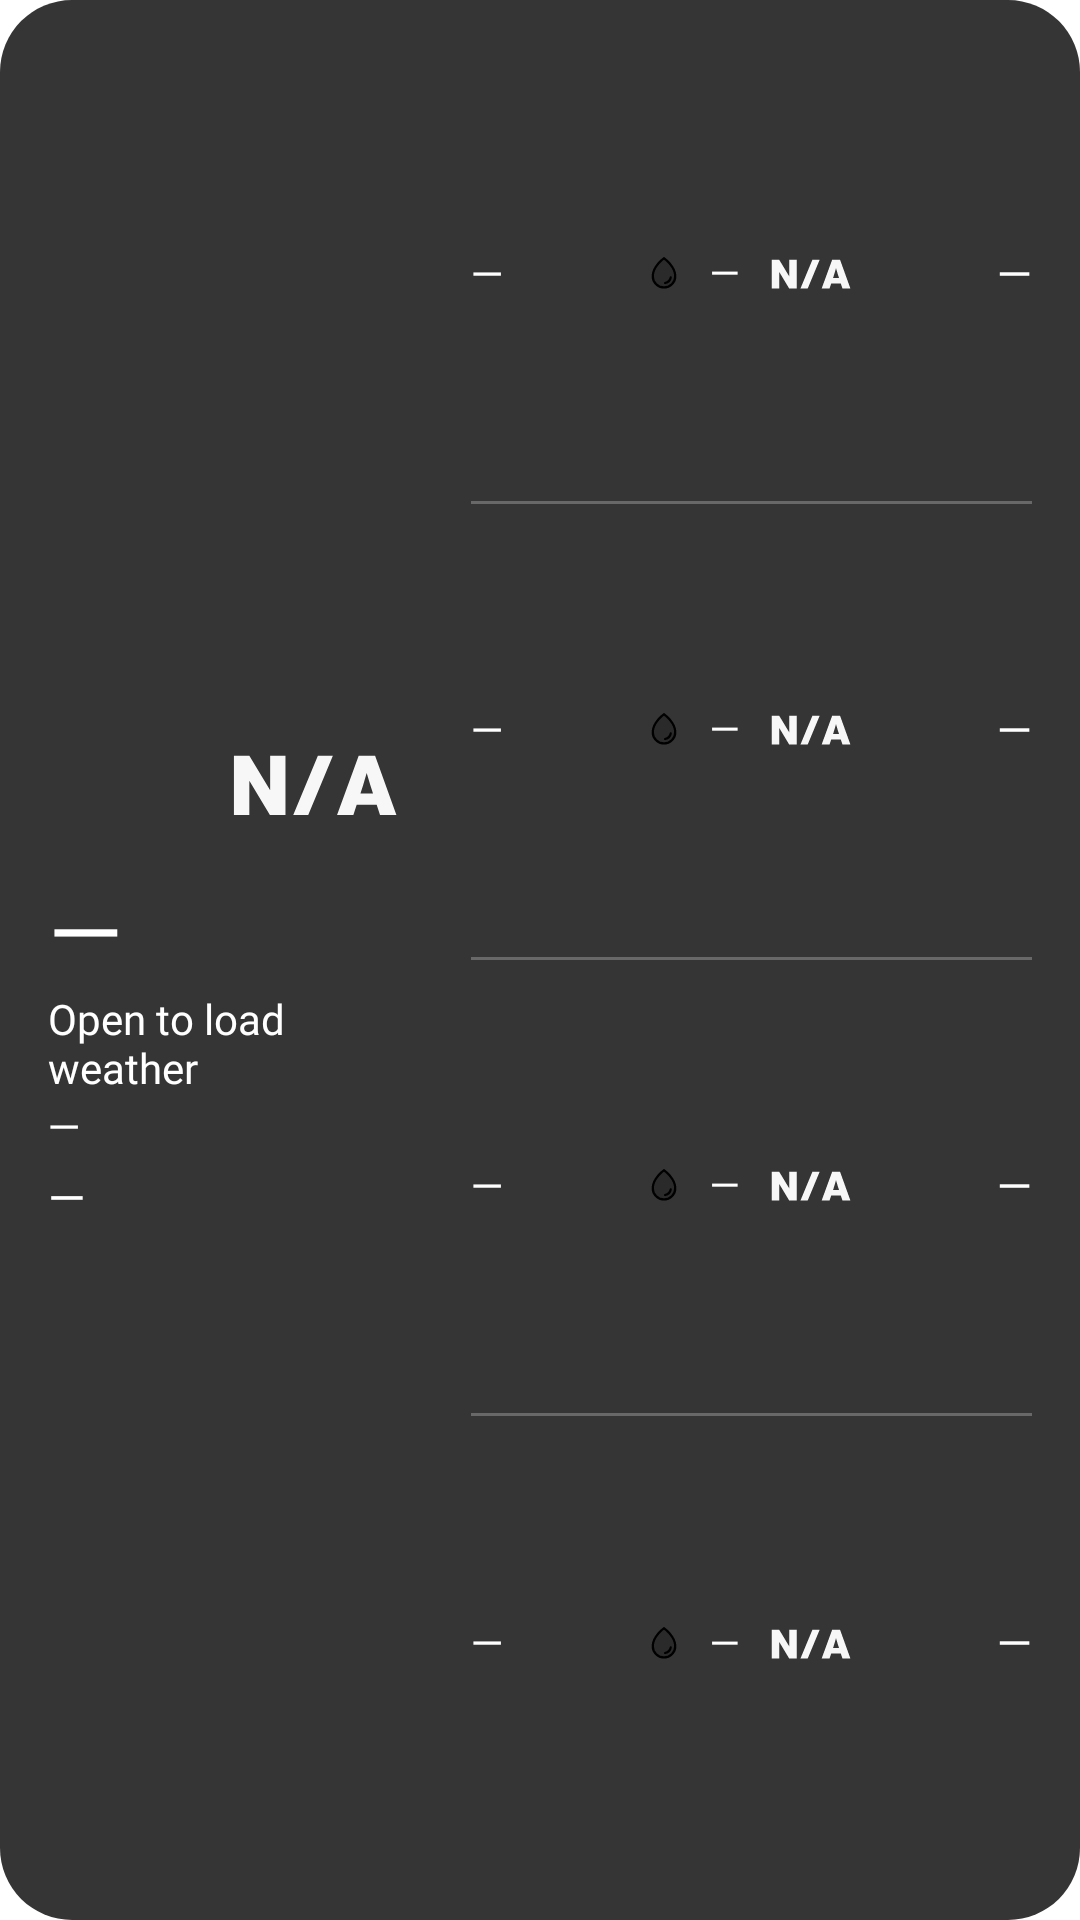

Where icons sit on this 1080×1920 app screen, as [x1, y1, x2, y2]:
Rain chance: [651, 257, 677, 289], [651, 713, 677, 745], [651, 1169, 677, 1201], [651, 1627, 677, 1659]
